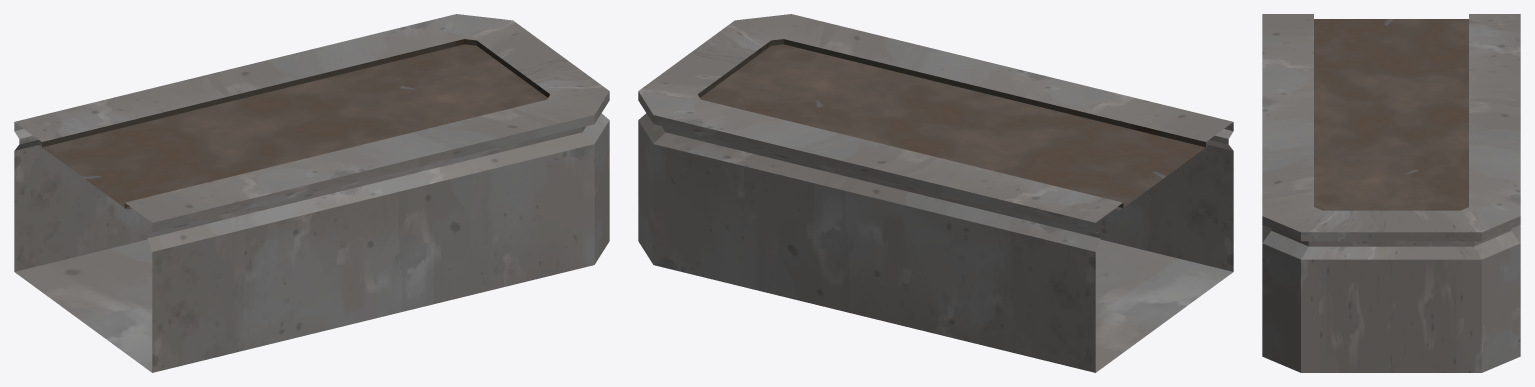
Rendered from Prop_Planter_Small_Side_R.gltf.
The picture shows the model from 3 angles, left to right: view 1: azimuth 30°, elevation 25°; view 2: azimuth 150°, elevation 25°; view 3: azimuth 270°, elevation 25°; orthographic projection. The views are drawn at different scales.
Parts seen in each view (by area): view 1: Prop_Planter_Small_Side_R; view 2: Prop_Planter_Small_Side_R; view 3: Prop_Planter_Small_Side_R.
Boxes of the visible parts, box(x1,y1,x2,y2) form: Prop_Planter_Small_Side_R: box(14, 14, 609, 372); Prop_Planter_Small_Side_R: box(638, 14, 1233, 372); Prop_Planter_Small_Side_R: box(1262, 14, 1520, 372).
Bounding box in the file's own units: 2 × 0.6 × 0.9997.
Materials: 2 (2 with a texture image).
